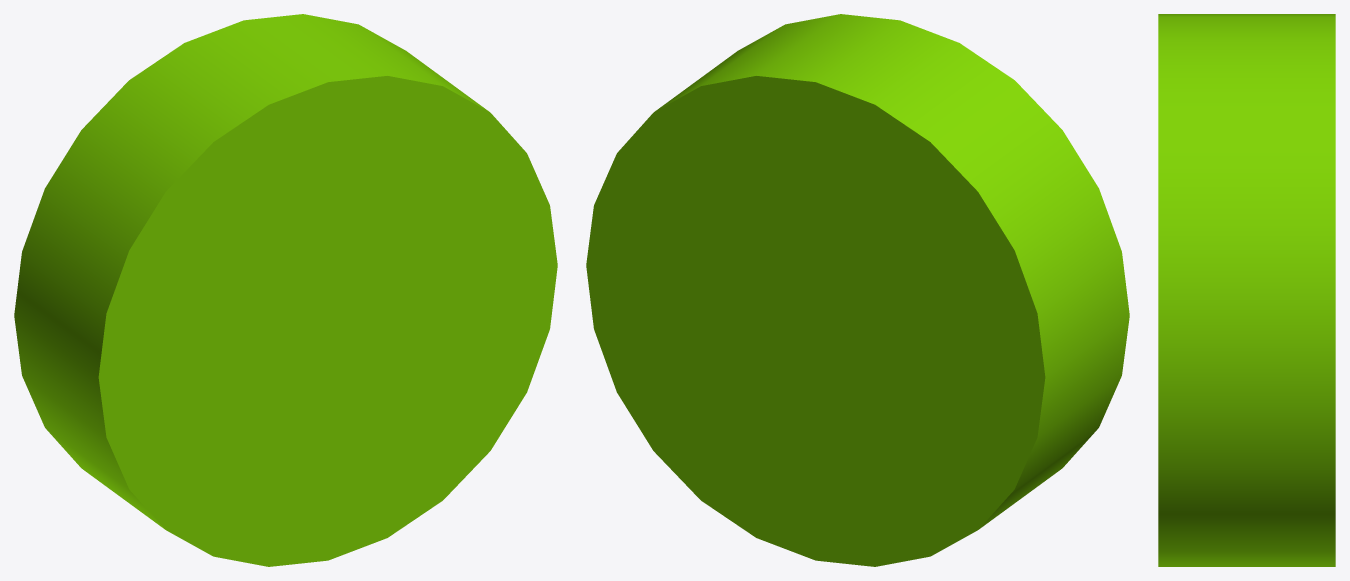
The model's file is original-6.obj.
3 views of the same model, side by side, from view 1: azimuth 30°, elevation 25°; view 2: azimuth 150°, elevation 25°; view 3: azimuth 270°, elevation 25° (orthographic). The views are drawn at different scales.
Parts seen in each view (by area): view 1: Component_4_3/Component_4/mesh6/mesh6-geometry#mesh6-geometry; view 2: Component_4_3/Component_4/mesh6/mesh6-geometry#mesh6-geometry; view 3: Component_4_3/Component_4/mesh6/mesh6-geometry#mesh6-geometry.
Part boxes in pixels (x1,y1,x2,y2): Component_4_3/Component_4/mesh6/mesh6-geometry#mesh6-geometry: [14, 14, 557, 566]; Component_4_3/Component_4/mesh6/mesh6-geometry#mesh6-geometry: [586, 14, 1129, 566]; Component_4_3/Component_4/mesh6/mesh6-geometry#mesh6-geometry: [1158, 14, 1335, 566].
Bounding box in the file's own units: 0.00897 × 0.00893 × 0.00286.
